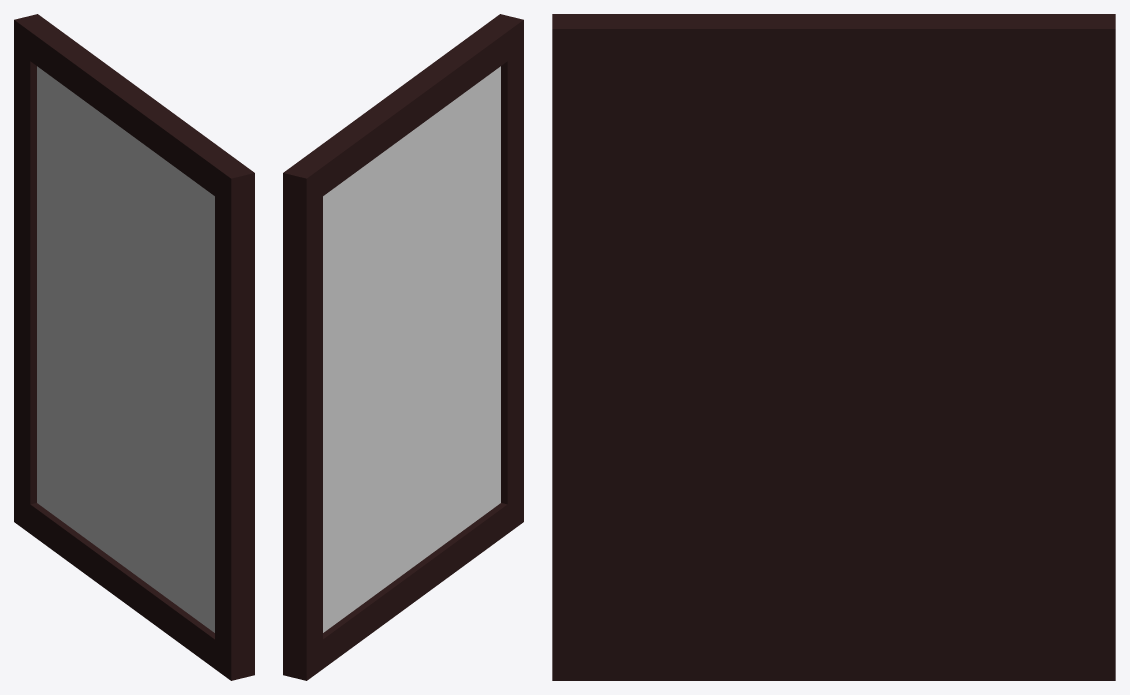
File: PaintingLargeEmpty.fbx
The picture shows the model from 3 angles, left to right: view 1: azimuth 30°, elevation 25°; view 2: azimuth 150°, elevation 25°; view 3: azimuth 270°, elevation 25°; orthographic projection. The views are drawn at different scales.
Parts seen in each view (by area): view 1: Painting_Large; view 2: Painting_Large; view 3: Painting_Large.
Boxes of the visible parts, <box> form: Painting_Large: <box>14,14,254,680</box>; Painting_Large: <box>283,14,523,680</box>; Painting_Large: <box>552,14,1115,680</box>.
Size of the model in its own units: 6.31 by 128 by 100.
